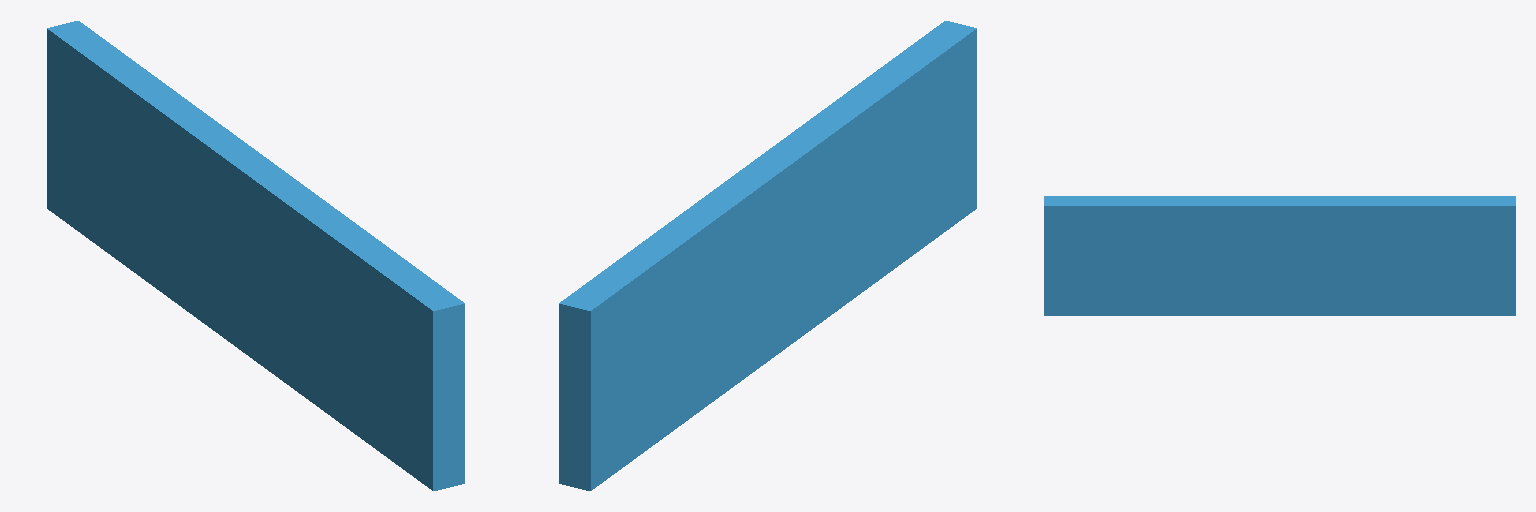
robot.urdf — box_65:
<?xml version="1.0" encoding="utf-8"?>    
    
    <robot name="box_65">
        <link name="box_65">    
            <fem>
                <origin rpy="0.0 0.0 0.0" xyz="0 0 0" />
                <density value="100" />
                <youngs value="4243"/>
                <poissons value="0.3"/>
                <damping value="0.0" /> 
                <attachDistance value="0.01"/>
                <tetmesh filename="../../../../Custom_mesh/physical_dvrk/multi_box_5kPa/box_65.tet"/>
                <scale value="1.0"/>
            </fem>
        </link>
        
        <link name="fix_frame">
            <visual>
                <origin xyz="-10.085 0.0 0.0"/>              
                <geometry>
                    <box size="0.005 0.105 0.027"/>
                </geometry>
            </visual>
            <collision>
                <origin xyz="-0.085 0.0 0.0"/>              
                <geometry>
                    <box size="0.005 0.105 0.027"/>
                </geometry>
            </collision>
            <inertial>
                <mass value="500000"/>
                <inertia ixx="0.05" ixy="0.0" ixz="0.0" iyy="0.05" iyz="0.0" izz="0.05"/>
            </inertial>
        </link>
        
        <joint name = "attach" type = "fixed">
            <origin xyz = "0.0 0.0 0.0" rpy = "0 0 0"/>
            <parent link = "box_65"/>
            <child link = "fix_frame"/>
        </joint>  
        
    </robot>
    

--- What the picture shows (computed from the rendered views, not written in the file) ---
The picture shows the robot from 3 angles, left to right: view 1: azimuth 30°, elevation 25°; view 2: azimuth 150°, elevation 25°; view 3: azimuth 270°, elevation 25°; orthographic projection.
Model box_65 with 2 links and 1 joints (1 fixed), rooted at box_65, posed every joint at zero.
Links seen in each view (by area): view 1: fix_frame; view 2: fix_frame; view 3: fix_frame.
Link boxes in pixels (bbox=[...]): fix_frame: bbox=[47, 21, 464, 490]; fix_frame: bbox=[559, 21, 976, 490]; fix_frame: bbox=[1044, 196, 1515, 315].
Size in the robot's own frame: 0.005 by 0.105 by 0.027 metres.
Geometry: primitives only (box / cylinder / sphere), no mesh files.